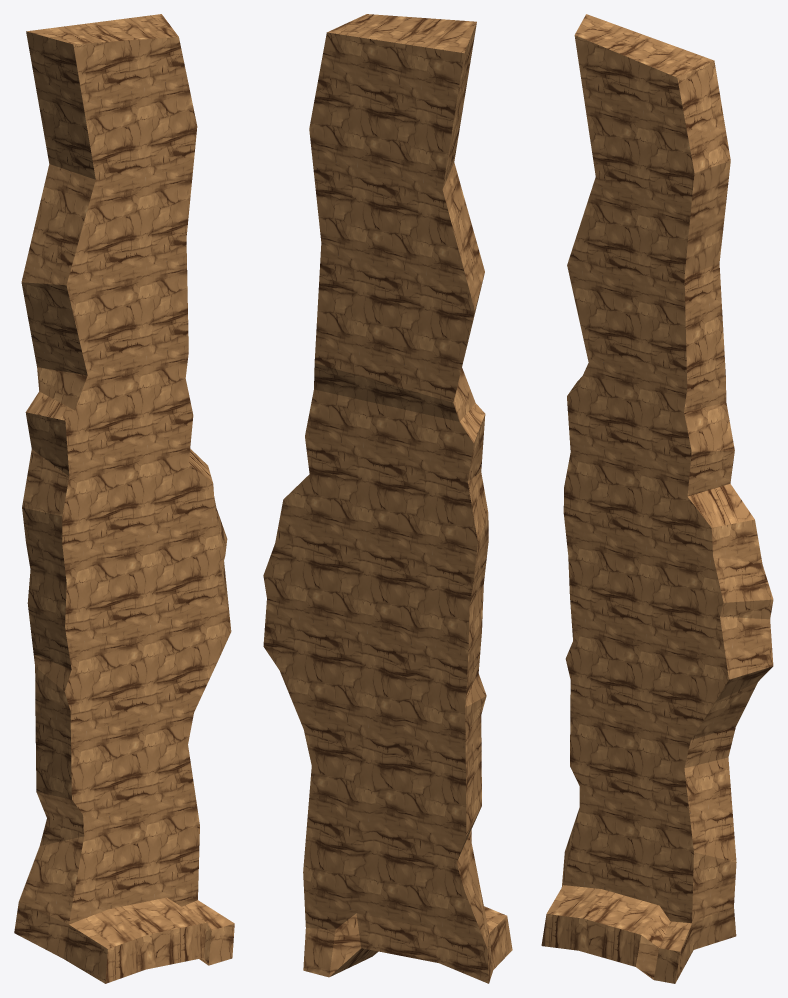
File: plano6.obj
3 views of the same model, side by side, from view 1: azimuth 30°, elevation 25°; view 2: azimuth 150°, elevation 25°; view 3: azimuth 330°, elevation 25° (orthographic). The views are drawn at different scales.
Visible parts, largest first — view 1: Plane.027_Plane.014; view 2: Plane.027_Plane.014; view 3: Plane.027_Plane.014.
Boxes of the visible parts, bbox=[...] form: Plane.027_Plane.014: bbox=[14, 14, 234, 983]; Plane.027_Plane.014: bbox=[263, 14, 512, 983]; Plane.027_Plane.014: bbox=[541, 14, 773, 983].
Size of the model in its own units: 480 by 1981 by 261.
Materials: 1 (1 with a texture image).
